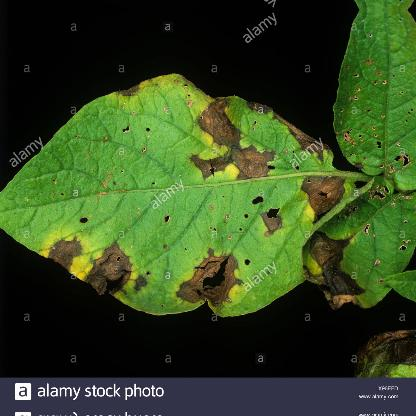Early-Blight: (0, 66, 367, 322)
